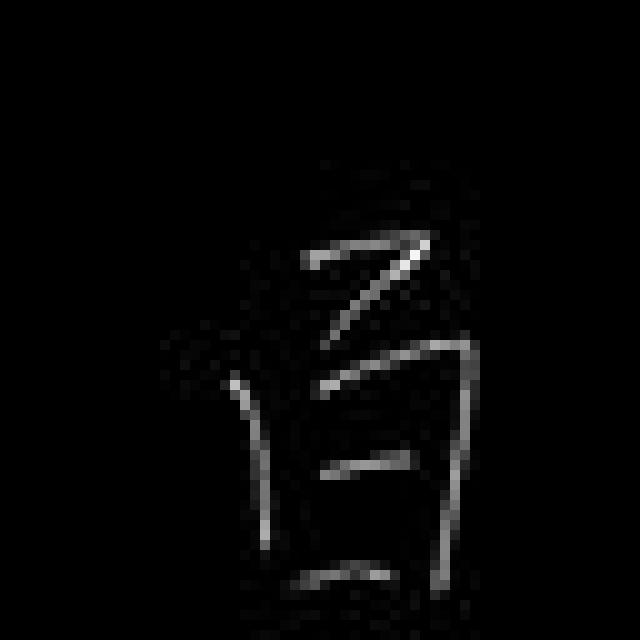100 -a hundred-: (220, 222, 478, 611)
